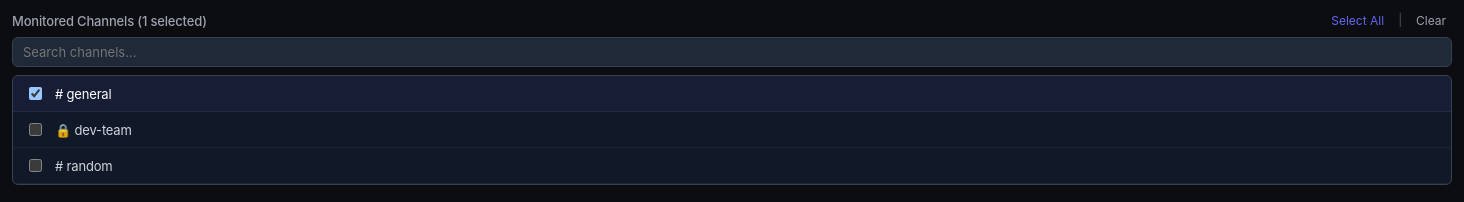
Test: Sources UI Components (SLK-4) › ChannelPicker filters channels and handles selection
Expected: the text "# general" is shown, [55,86,112,102]
Expected: the text "🔒 dev-team" is shown, [55,122,132,138]
Type "dev" into the field with placeholder "Search channels..." at {"x": 732, "y": 52}, box [12,37,1452,67]
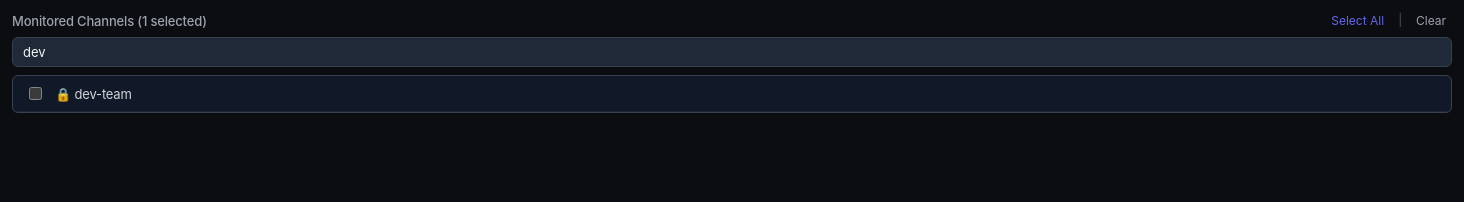
Expected: the text "🔒 dev-team" is shown, [55,86,132,102]
Now the text "# general" is gone
